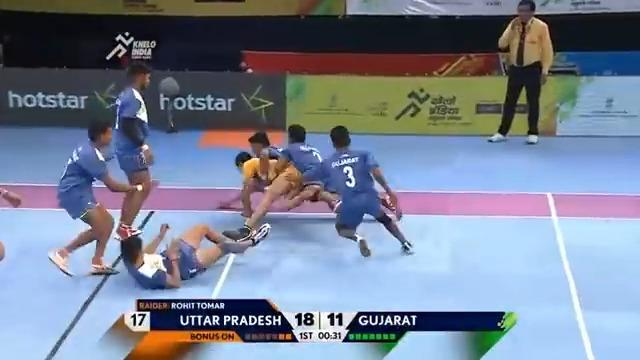Player: (49, 115, 142, 276), (319, 124, 414, 257), (119, 220, 271, 289), (108, 62, 155, 241)
Raider: (222, 123, 338, 240)
referee: (487, 0, 554, 144)
